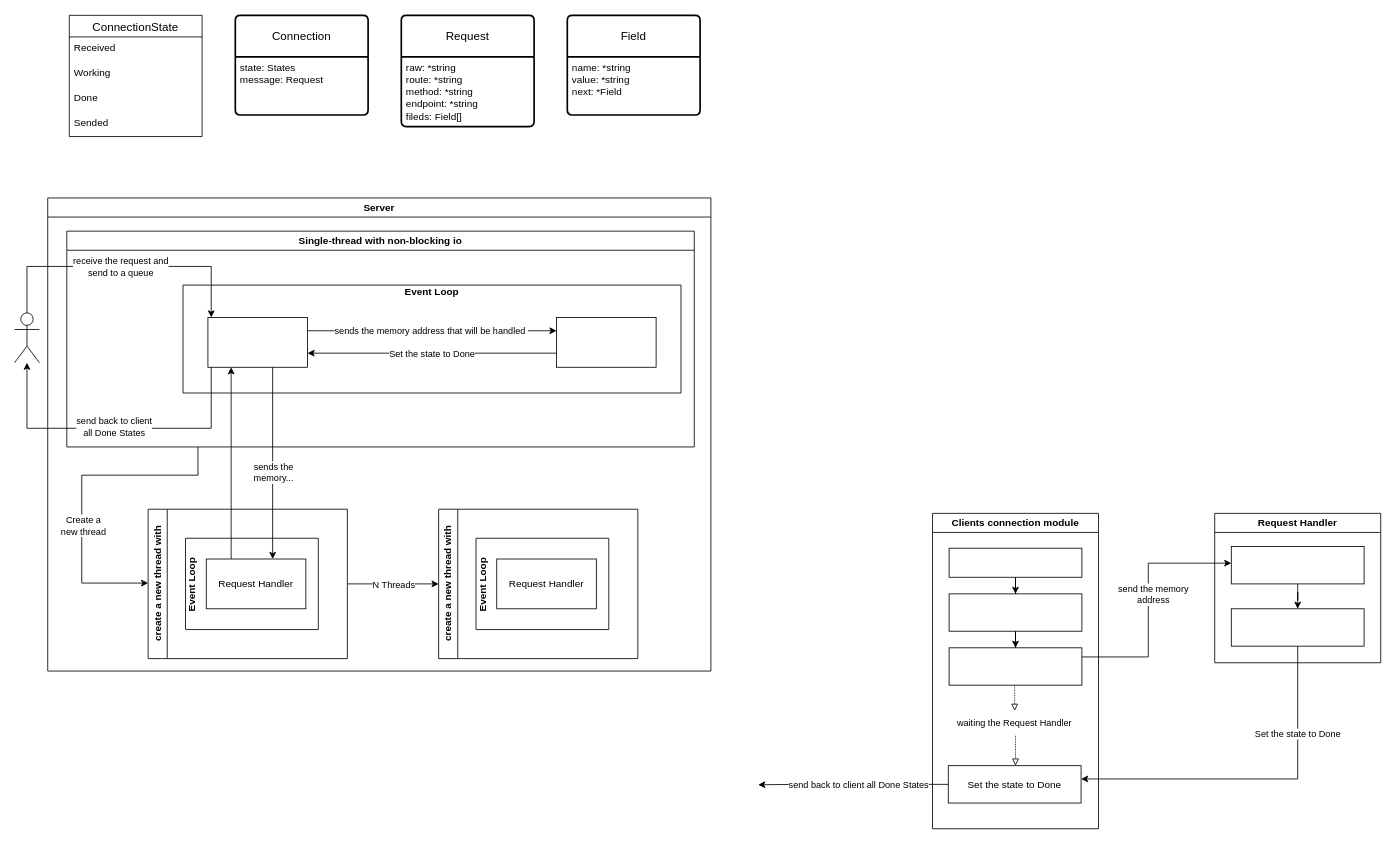
The diagram is 1395 pixels wide and 843 high, and some of its shapes have lost their labels. The centre of each missing label's shape, as x and y in pixels:
Connection Handler Module: pixel 257 342
Request Handler Module: pixel 606 342
Request Parser: pixel 1297 565
Request Process: pixel 1297 627
send to Request Handler: pixel 1015 666
Set the state to Working: pixel 1015 612
store into a Fifo as Connection: pixel 1015 562
